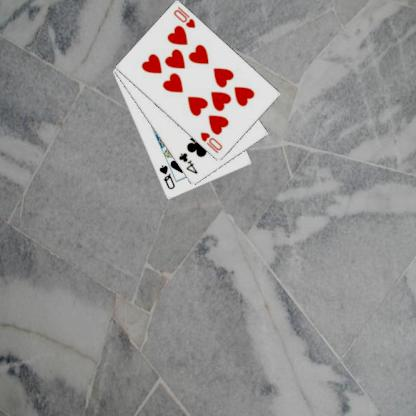10H: (200, 129, 226, 155), (172, 4, 198, 30)
4C: (178, 150, 201, 175)
QS: (158, 163, 178, 191)
